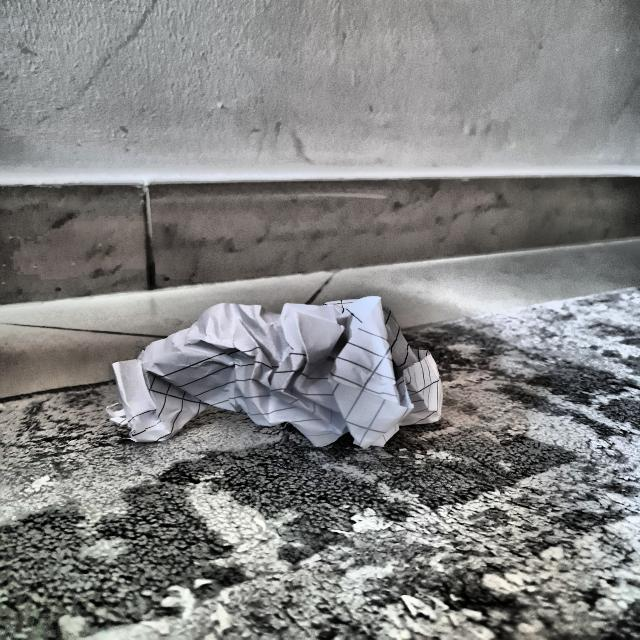Paper: (94, 292, 453, 445)
